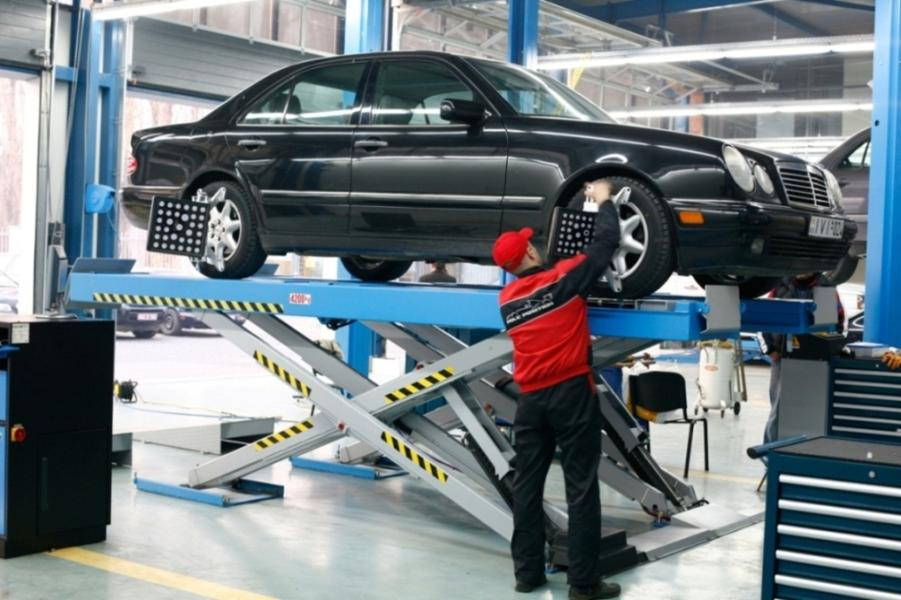person: (492, 177, 625, 598)
